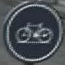bike lane: (5, 0, 61, 58)
